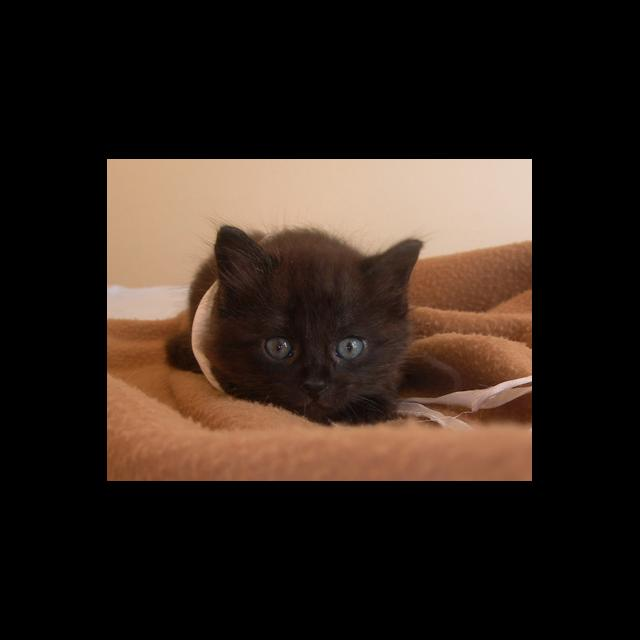animals: (220, 225, 420, 396)
